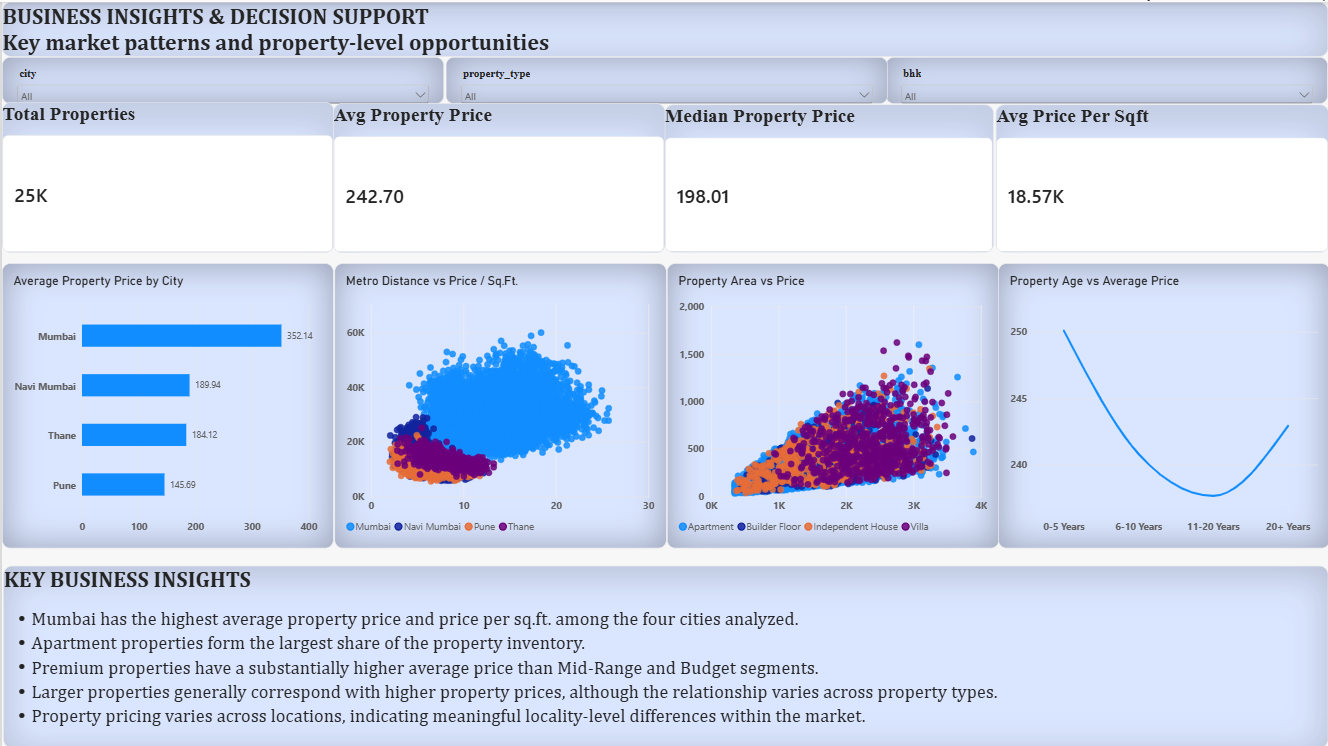

The page's visual inventory and layout, read from the dashboard file:
{"tool":"powerbi","page":{"name":"Business Insights","canvas":[1920,1080],"ordinal":4},"visuals":[{"type":"textbox","box":[0,0,1920.4,78.9],"z":0},{"type":"slicer","fields":{"Values":["public real_estate.city"]},"box":[0,78.9,640.1,67.9],"z":1000},{"type":"slicer","fields":{"Values":["public real_estate.bhk"]},"box":[1280.2,78.9,640.1,67.9],"z":2000},{"type":"slicer","fields":{"Values":["public real_estate.property_type"]},"box":[642,78.9,640.1,67.9],"z":3000},{"type":"cardVisual","title":"Total Properties","fields":{"Data":["public real_estate.Total Properties"]},"box":[0,144.9,480.6,218.3],"z":4000},{"type":"cardVisual","title":"Median Property Price","fields":{"Data":["public real_estate.Median Property Price"]},"box":[959.3,148.6,476.9,214.6],"z":5000},{"type":"cardVisual","title":"Avg Property Price","fields":{"Data":["public real_estate.Avg Property Price"]},"box":[478.7,146.7,480.6,216.4],"z":6000},{"type":"cardVisual","title":"Avg Price Per Sqft","fields":{"Data":["public real_estate.Avg Price Per Sqft"]},"box":[1438,148.6,482.4,214.6],"z":7000},{"type":"clusteredBarChart","title":"Average Property Price by City","fields":{"Category":["public real_estate.city"],"Y":["public real_estate.Avg Property Price"]},"box":[0,377.8,479.7,412.6],"z":8000},{"type":"scatterChart","title":"Property Area vs Price","fields":{"X":["public real_estate.area_sqft"],"Y":["public real_estate.price_inr_lakhs"],"Series":["public real_estate.property_type"]},"box":[962.9,377.8,480.6,412.7],"z":9000},{"type":"scatterChart","title":"Metro Distance vs Price / Sq.Ft.","fields":{"X":["public real_estate.distance_to_metro_km"],"Y":["public real_estate.price_per_sqft"],"Series":["public real_estate.city"]},"box":[480.6,377.8,480.6,412.7],"z":10000},{"type":"lineChart","title":"Property Age vs Average Price","fields":{"Category":["public real_estate.Property Age Group"],"Y":["public real_estate.Avg Property Price"]},"box":[1441.7,377.8,480,413],"z":11000},{"type":"textbox","box":[1.8,816.2,1918.5,264.1],"z":12000}]}

Visuals, with their boxes in screenshot pixels (x1, y1, x2, y2), scaled from the page's 1920x1080 canvas onto the 1328x746 screenshot:
textbox: x1=0, y1=0, x2=1327, y2=54
slicer - public real_estate.city: x1=0, y1=54, x2=443, y2=101
slicer - public real_estate.bhk: x1=885, y1=54, x2=1327, y2=101
slicer - public real_estate.property_type: x1=444, y1=54, x2=887, y2=101
"Total Properties" cardVisual: x1=0, y1=100, x2=332, y2=251
"Median Property Price" cardVisual: x1=664, y1=103, x2=993, y2=251
"Avg Property Price" cardVisual: x1=331, y1=101, x2=664, y2=251
"Avg Price Per Sqft" cardVisual: x1=995, y1=103, x2=1327, y2=251
"Average Property Price by City" clusteredBarChart: x1=0, y1=261, x2=332, y2=546
"Property Area vs Price" scatterChart: x1=666, y1=261, x2=998, y2=546
"Metro Distance vs Price / Sq.Ft." scatterChart: x1=332, y1=261, x2=665, y2=546
"Property Age vs Average Price" lineChart: x1=997, y1=261, x2=1327, y2=546
textbox: x1=1, y1=564, x2=1327, y2=745
